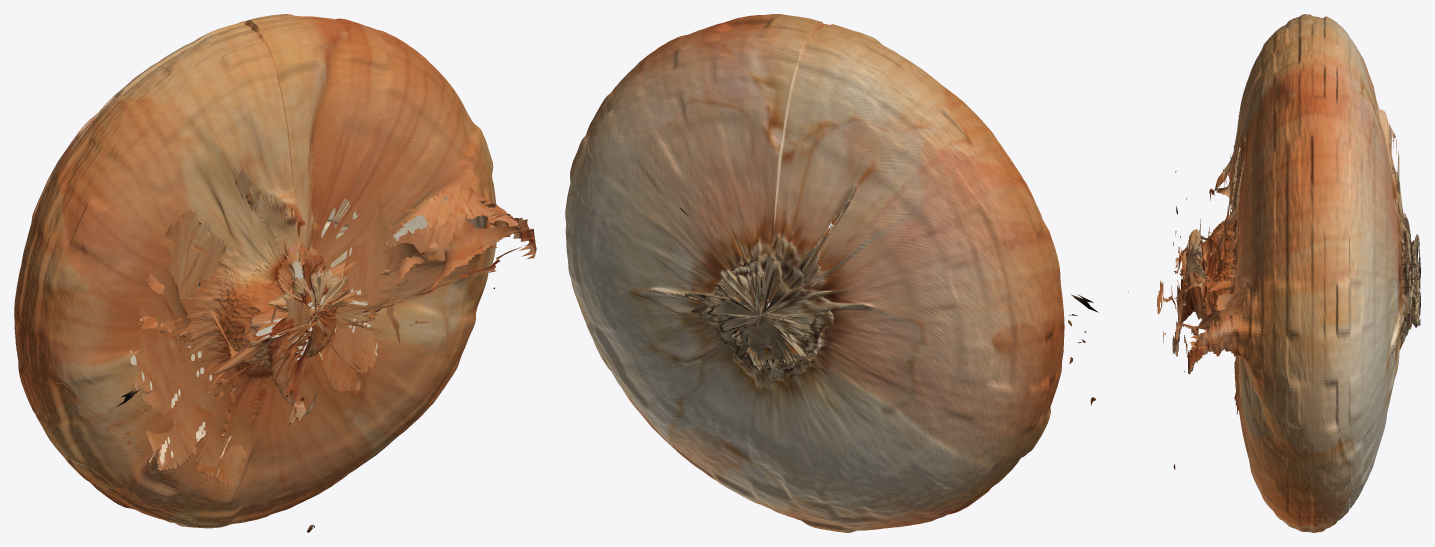
File: mesh_inpaint.glb
3 views of the same model, side by side, from view 1: azimuth 30°, elevation 25°; view 2: azimuth 150°, elevation 25°; view 3: azimuth 270°, elevation 25° (orthographic). The views are drawn at different scales.
Visible parts, largest first — view 1: ipn, fill; view 2: ipn, fill; view 3: ipn, fill.
Part boxes in pixels (<box>): ipn: <box>14,14,536,532</box>; fill: <box>130,140,531,487</box>; ipn: <box>565,14,1128,532</box>; fill: <box>667,213,843,366</box>; ipn: <box>1157,14,1420,532</box>; fill: <box>1174,115,1419,414</box>.
Size of the model in its own units: 2 by 1.98 by 0.9951.
Materials: 2 (1 with a texture image).
